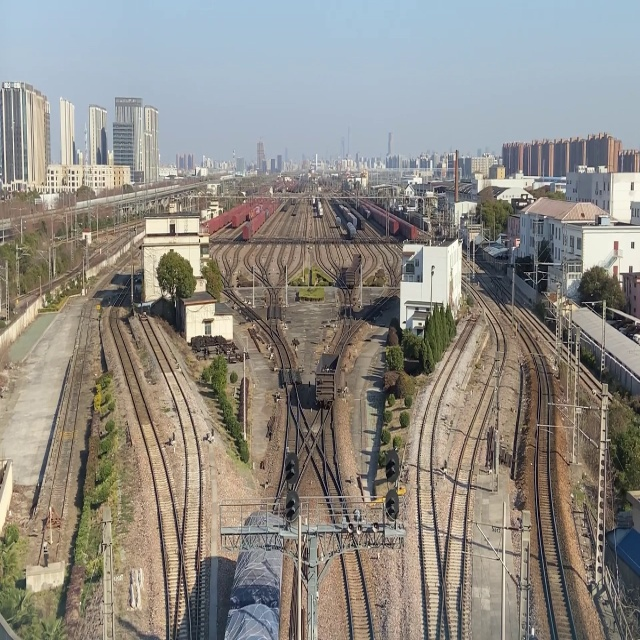train: (308, 348, 340, 409)
